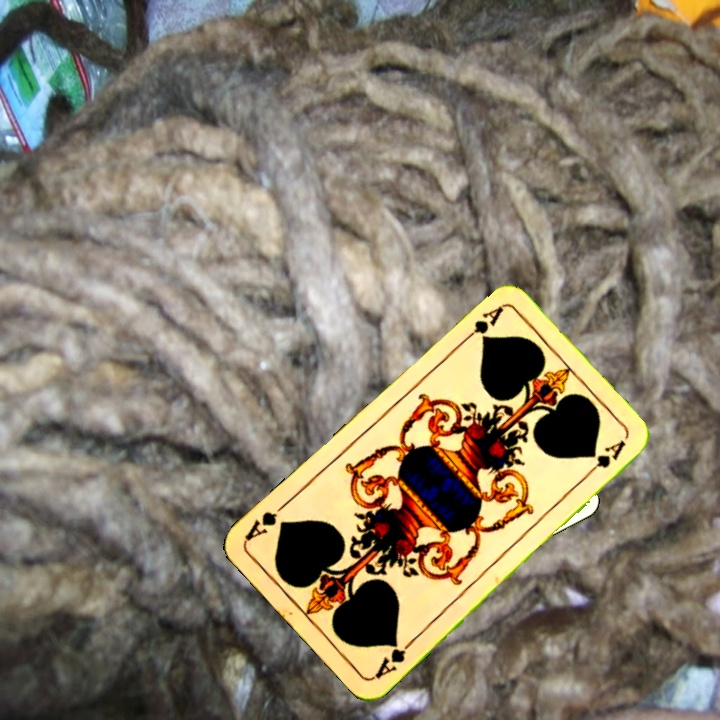GA: (370, 634, 418, 682), (457, 301, 507, 346)
